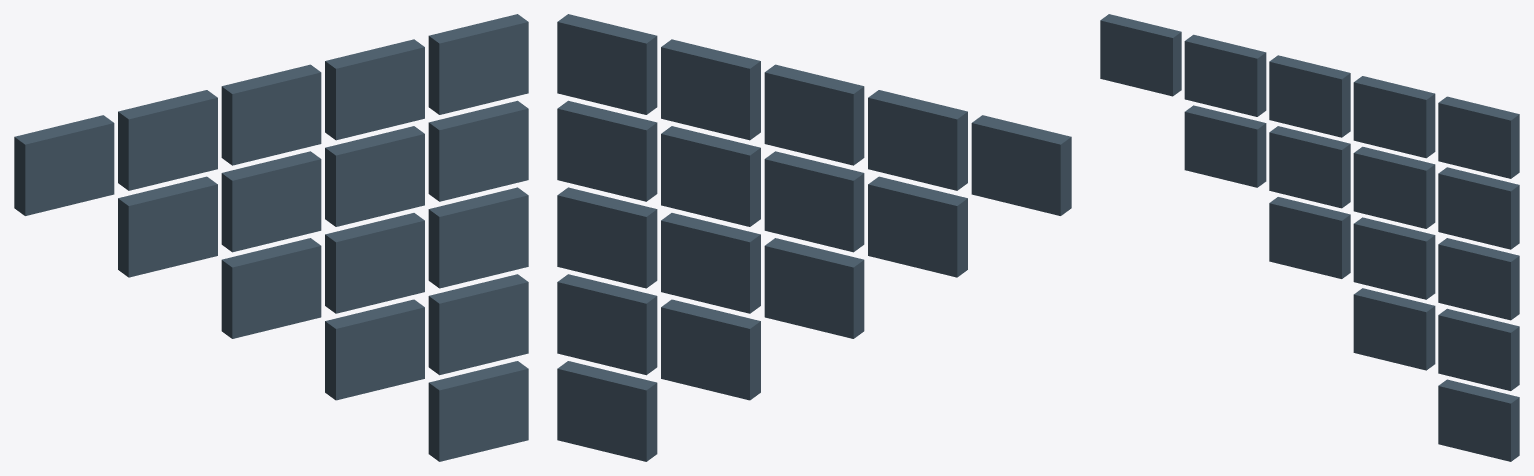
The model's file is causal-mask.glb.
The picture shows the model from 3 angles, left to right: view 1: azimuth 30°, elevation 25°; view 2: azimuth 150°, elevation 25°; view 3: azimuth 330°, elevation 25°; orthographic projection. The views are drawn at different scales.
Parts seen in each view (by area): view 1: mask_0_3, mask_0_1, mask_0_5, mask_1_3, mask_1_5, mask_2_5, mask_3_5, mask_4_5, mask_2_3, mask_3_4, mask_0_2, mask_0_4 (+3 smaller); view 2: mask_0_3, mask_0_1, mask_0_5, mask_1_3, mask_1_5, mask_2_5, mask_3_5, mask_4_5, mask_2_3, mask_3_4, mask_0_2, mask_0_4 (+3 smaller); view 3: mask_0_2, mask_0_4, mask_1_2, mask_2_4, mask_3_4, mask_1_4, mask_0_1, mask_0_5, mask_1_3, mask_1_5, mask_2_5, mask_4_5 (+3 smaller).
Part boxes in pixels (left/top/right/bottom): mask_0_3: left=221, top=64, right=321, bottom=165; mask_0_1: left=14, top=115, right=114, bottom=215; mask_0_5: left=428, top=14, right=528, bottom=114; mask_1_3: left=221, top=151, right=321, bottom=252; mask_1_5: left=428, top=100, right=528, bottom=201; mask_2_5: left=428, top=187, right=528, bottom=288; mask_3_5: left=428, top=274, right=528, bottom=375; mask_4_5: left=428, top=361, right=528, bottom=461; mask_2_3: left=221, top=238, right=321, bottom=338; mask_3_4: left=325, top=299, right=424, bottom=400; mask_0_2: left=118, top=90, right=217, bottom=190; mask_0_4: left=325, top=39, right=424, bottom=140; mask_0_3: left=764, top=64, right=864, bottom=165; mask_0_1: left=971, top=115, right=1071, bottom=215; mask_0_5: left=557, top=14, right=657, bottom=114; mask_1_3: left=764, top=151, right=864, bottom=252; mask_1_5: left=557, top=100, right=657, bottom=201; mask_2_5: left=557, top=187, right=657, bottom=288; mask_3_5: left=557, top=274, right=657, bottom=375; mask_4_5: left=557, top=361, right=657, bottom=461; mask_2_3: left=764, top=238, right=864, bottom=338; mask_3_4: left=661, top=299, right=760, bottom=400; mask_0_2: left=868, top=90, right=967, bottom=190; mask_0_4: left=661, top=39, right=760, bottom=140; mask_0_2: left=1184, top=34, right=1266, bottom=116; mask_0_4: left=1353, top=76, right=1435, bottom=158; mask_1_2: left=1184, top=105, right=1266, bottom=187; mask_2_4: left=1353, top=217, right=1435, bottom=299; mask_3_4: left=1353, top=288, right=1435, bottom=370; mask_1_4: left=1353, top=146, right=1435, bottom=228; mask_0_1: left=1100, top=14, right=1181, bottom=96; mask_0_5: left=1438, top=96, right=1519, bottom=178; mask_1_3: left=1269, top=126, right=1350, bottom=208; mask_1_5: left=1438, top=167, right=1519, bottom=249; mask_2_5: left=1438, top=238, right=1519, bottom=320; mask_4_5: left=1438, top=379, right=1519, bottom=461.
Bounding box in the file's own units: 2.43 × 1.93 × 0.09.
